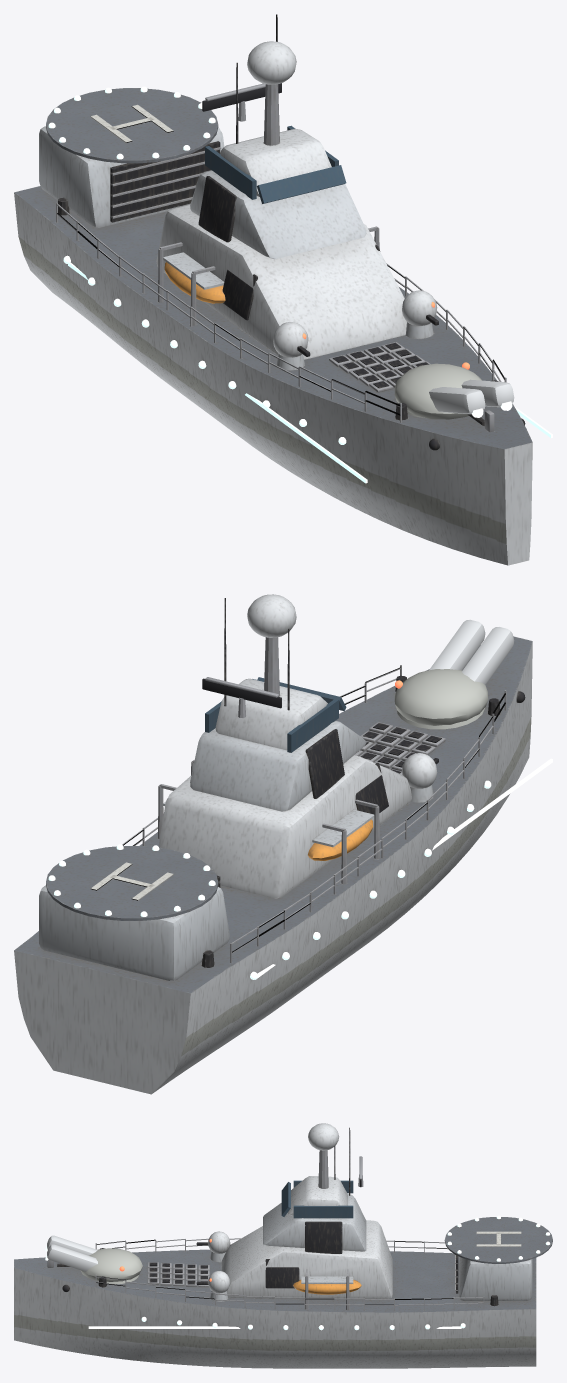
File: cruiser.glb
3 views of the same model, one above another, from view 1: azimuth 30°, elevation 25°; view 2: azimuth 150°, elevation 25°; view 3: azimuth 270°, elevation 25° (orthographic). The views are drawn at different scales.
Parts seen in each view (by area): view 1: Hull, Turret, Barrel, Spin; view 2: Hull, Turret, Barrel, Spin; view 3: Hull, Turret, Barrel.
Boxes of the visible parts, left/top/right/bottom form: Hull: left=14, top=14, right=552, bottom=565; Turret: left=394, top=362, right=481, bottom=419; Barrel: left=429, top=379, right=514, bottom=417; Spin: left=202, top=83, right=281, bottom=121; Hull: left=14, top=594, right=552, bottom=1094; Turret: left=394, top=669, right=488, bottom=729; Barrel: left=429, top=619, right=514, bottom=684; Spin: left=202, top=677, right=281, bottom=717; Hull: left=14, top=1123, right=552, bottom=1368; Turret: left=81, top=1248, right=142, bottom=1284; Barrel: left=45, top=1235, right=97, bottom=1271.
Bounding box in the file's own units: 4 × 6.85 × 14.45.
17 materials, 11 textured.
